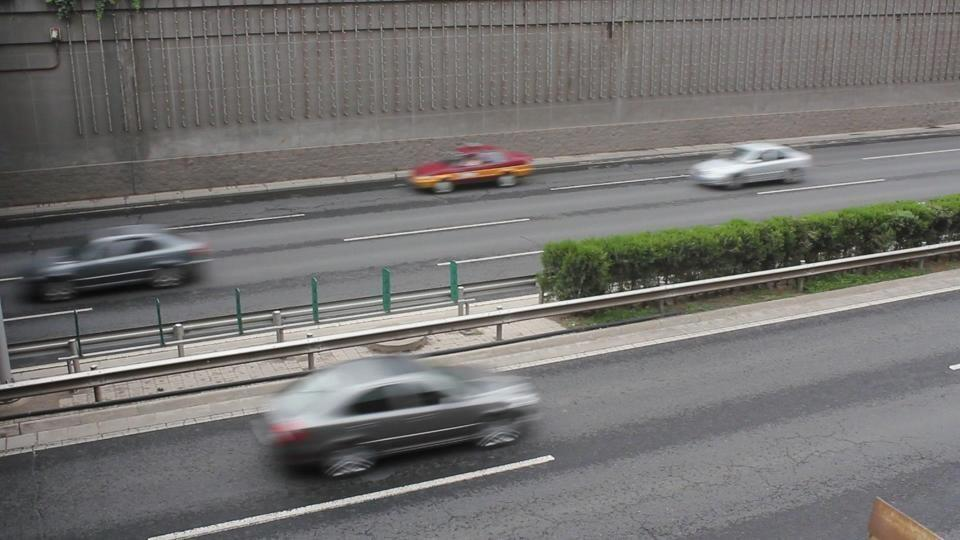car: (250, 355, 544, 478), (7, 226, 215, 304), (406, 143, 537, 194), (687, 141, 813, 189)
